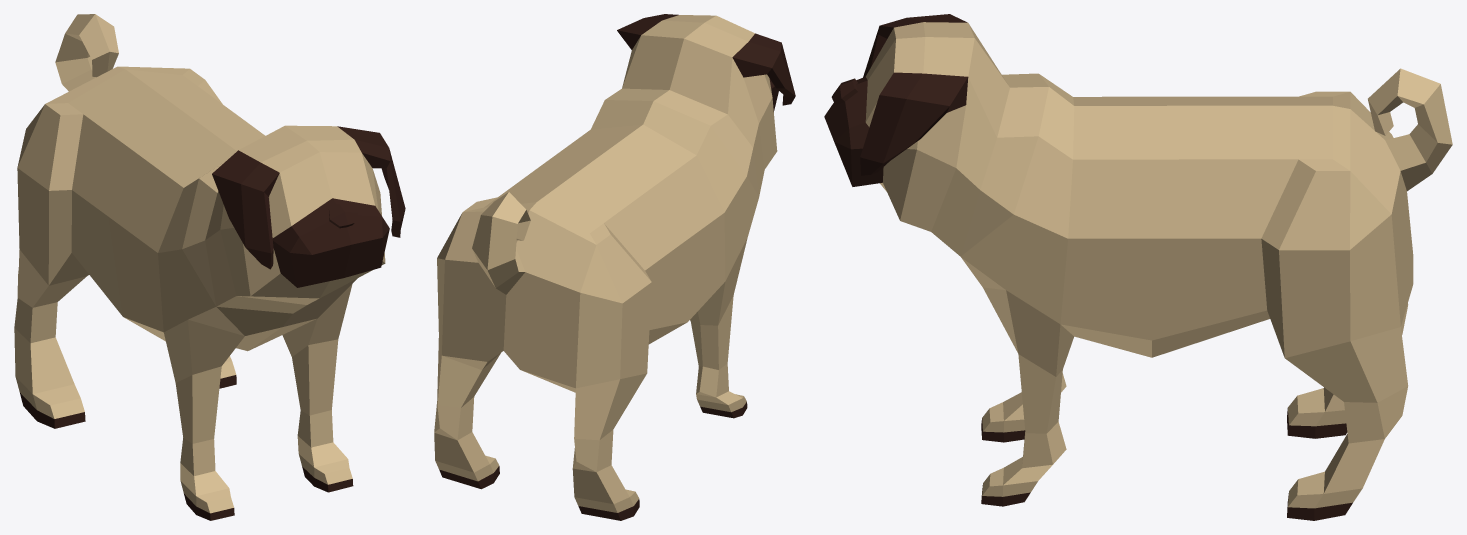
The model's file is dog.glb.
The picture shows the model from 3 angles, left to right: view 1: azimuth 30°, elevation 25°; view 2: azimuth 150°, elevation 25°; view 3: azimuth 270°, elevation 25°; orthographic projection. The views are drawn at different scales.
Parts seen in each view (by area): view 1: Pug; view 2: Pug; view 3: Pug.
Part boxes in pixels (x1,y1,x2,y2): Pug: (14, 14, 405, 520); Pug: (434, 14, 795, 520); Pug: (824, 14, 1452, 520).
Bounding box in the file's own units: 1.45 × 2.66 × 3.51.
